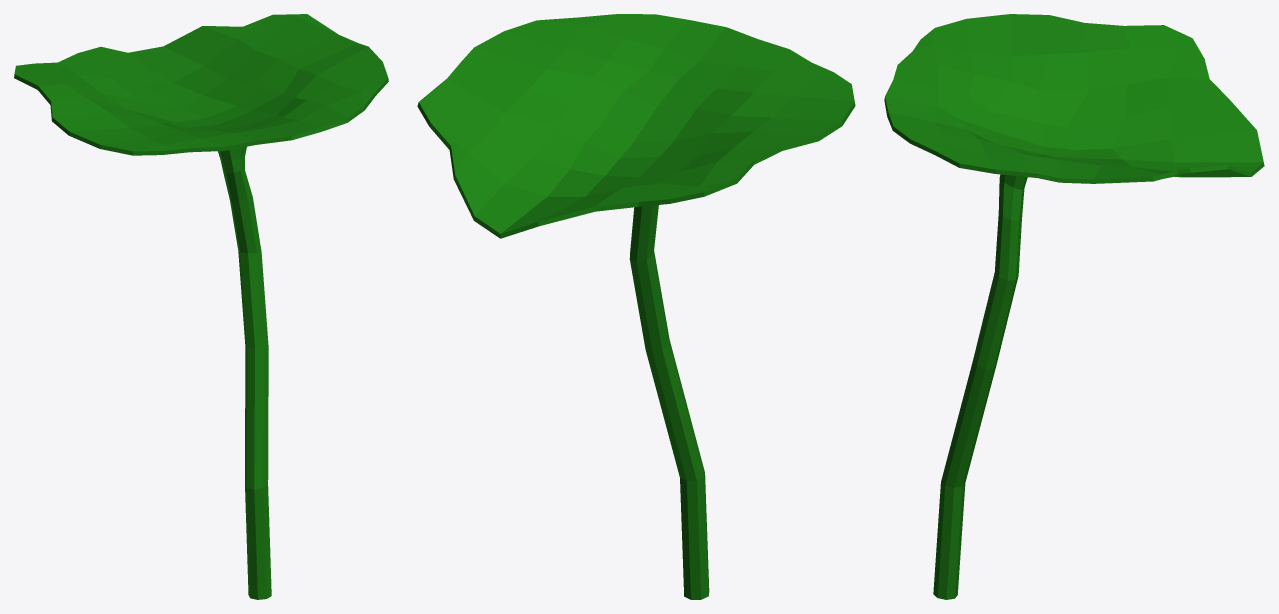
File: HOJALOTO2.fbx
3 renders of one model, left to right at view 1: azimuth 30°, elevation 25°; view 2: azimuth 150°, elevation 25°; view 3: azimuth 270°, elevation 25°, orthographic. The views are drawn at different scales.
Visible parts, largest first — view 1: Plane.005; view 2: Plane.005; view 3: Plane.005.
Part boxes in pixels (x1,y1,x2,y2): Plane.005: (14,14,388,599); Plane.005: (417,14,855,599); Plane.005: (884,14,1264,599).
Size of the model in its own units: 187 by 274 by 188.
